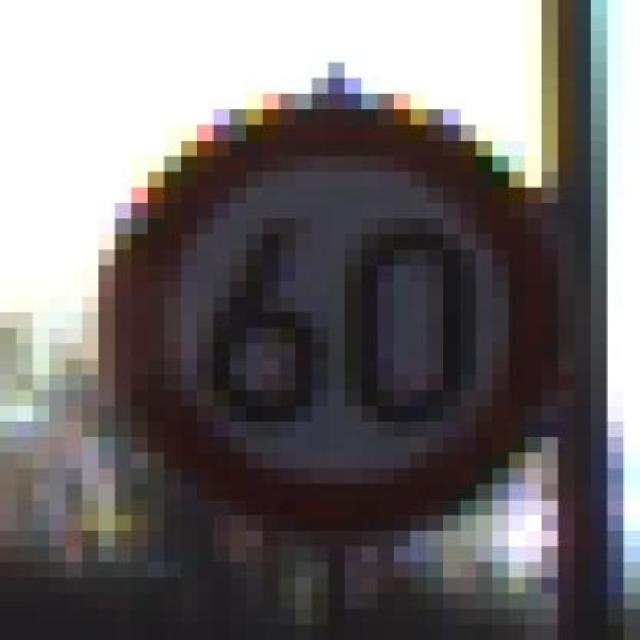forb_speed_over_60: (107, 102, 547, 531)
